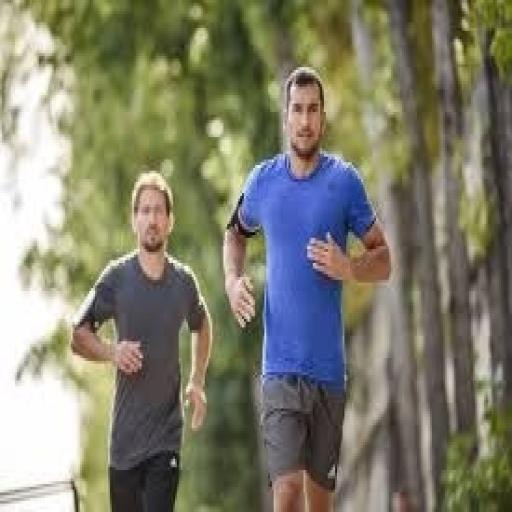running: (220, 64, 394, 510), (69, 168, 214, 509)
